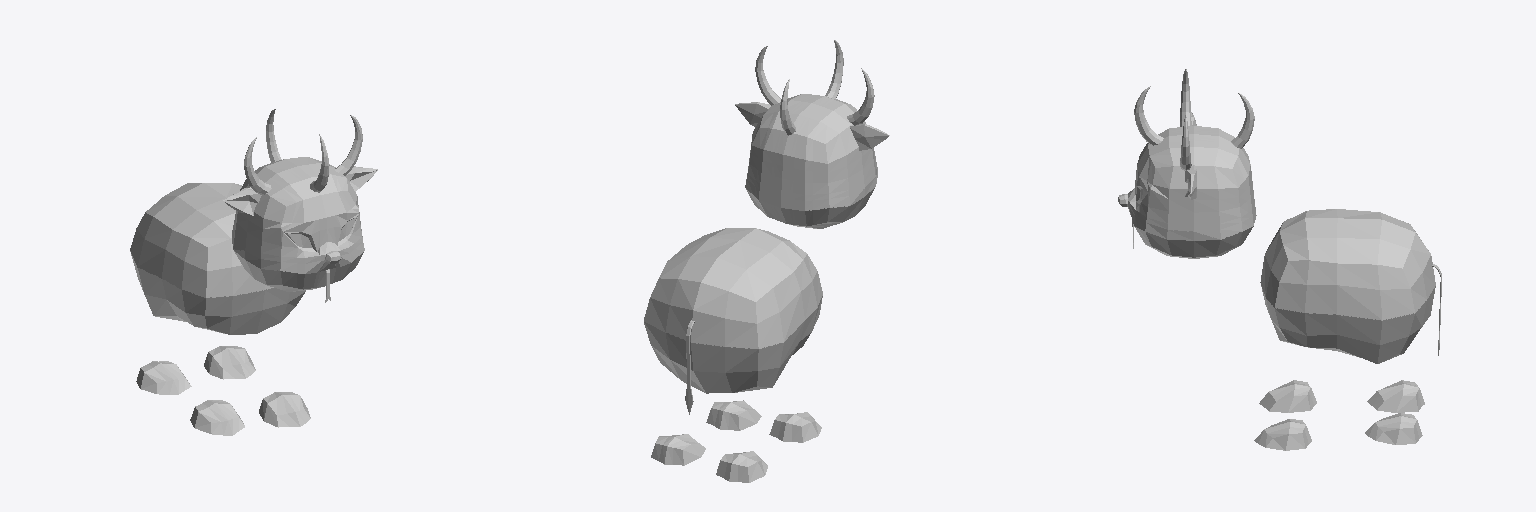
The picture shows the model from 3 angles: view 1: azimuth 30°, elevation 25°; view 2: azimuth 150°, elevation 25°; view 3: azimuth 270°, elevation 25°; orthographic projection.
Parts seen in each view (by area): view 1: cara1_Cube.024, cuerpo1_Cube.030, cuerpoMalla_Cube.023, orejas1_Cube.022, cabezaMalla_Cube.010, patasMalla.003_Cube.026, patasMalla.005_Cube.029, patasMalla.001_Cube.016, patasMalla_Cube.014; view 2: cuerpo1_Cube.030, cara1_Cube.024, cuerpoMalla_Cube.023, orejas1_Cube.022, cabezaMalla_Cube.010, patasMalla_Cube.014, patasMalla.001_Cube.016, patasMalla.005_Cube.029, patasMalla.003_Cube.026; view 3: cuerpo1_Cube.030, cara1_Cube.024, cuerpoMalla_Cube.023, orejas1_Cube.022, cabezaMalla_Cube.010, patasMalla.001_Cube.016, patasMalla.003_Cube.026, patasMalla_Cube.014, patasMalla.005_Cube.029.
Boxes of the visible parts, x1,y1,x2,y2 form: cara1_Cube.024: [232, 157, 364, 302]; cuerpo1_Cube.030: [130, 183, 272, 297]; cuerpoMalla_Cube.023: [130, 251, 305, 334]; orejas1_Cube.022: [223, 109, 377, 215]; cabezaMalla_Cube.010: [234, 213, 363, 291]; patasMalla.003_Cube.026: [190, 400, 244, 435]; patasMalla.005_Cube.029: [259, 392, 310, 427]; patasMalla.001_Cube.016: [136, 361, 191, 394]; patasMalla_Cube.014: [204, 346, 255, 379]; cuerpo1_Cube.030: [644, 228, 822, 348]; cara1_Cube.024: [745, 94, 877, 210]; cuerpoMalla_Cube.023: [644, 296, 822, 393]; orejas1_Cube.022: [735, 40, 889, 150]; cabezaMalla_Cube.010: [746, 177, 877, 228]; patasMalla_Cube.014: [651, 434, 705, 465]; patasMalla.001_Cube.016: [716, 451, 767, 482]; patasMalla.005_Cube.029: [706, 400, 761, 430]; patasMalla.003_Cube.026: [769, 412, 821, 442]; cuerpo1_Cube.030: [1261, 209, 1435, 319]; cara1_Cube.024: [1118, 126, 1256, 248]; cuerpoMalla_Cube.023: [1260, 282, 1435, 363]; orejas1_Cube.022: [1134, 69, 1254, 199]; cabezaMalla_Cube.010: [1128, 171, 1255, 258]; patasMalla.001_Cube.016: [1367, 380, 1424, 412]; patasMalla.003_Cube.026: [1259, 380, 1316, 412]; patasMalla_Cube.014: [1365, 413, 1422, 444]; patasMalla.005_Cube.029: [1254, 419, 1311, 450].
Size of the model in its own units: 2.4 by 5.02 by 4.36.